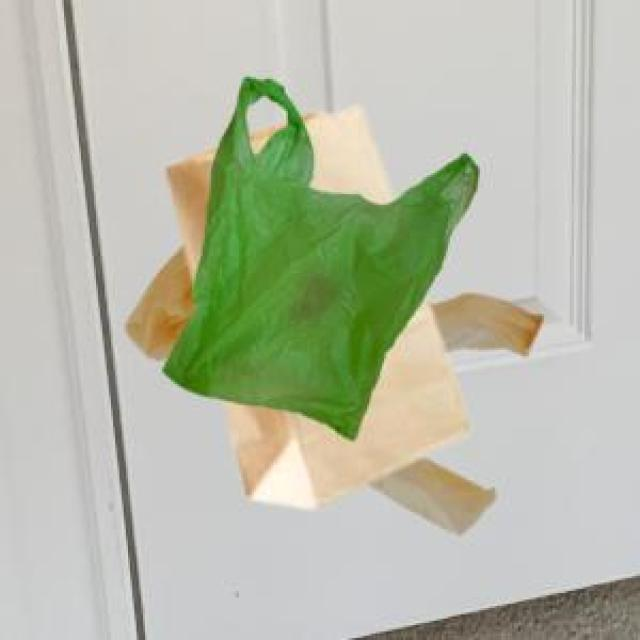paper: (162, 102, 465, 504)
